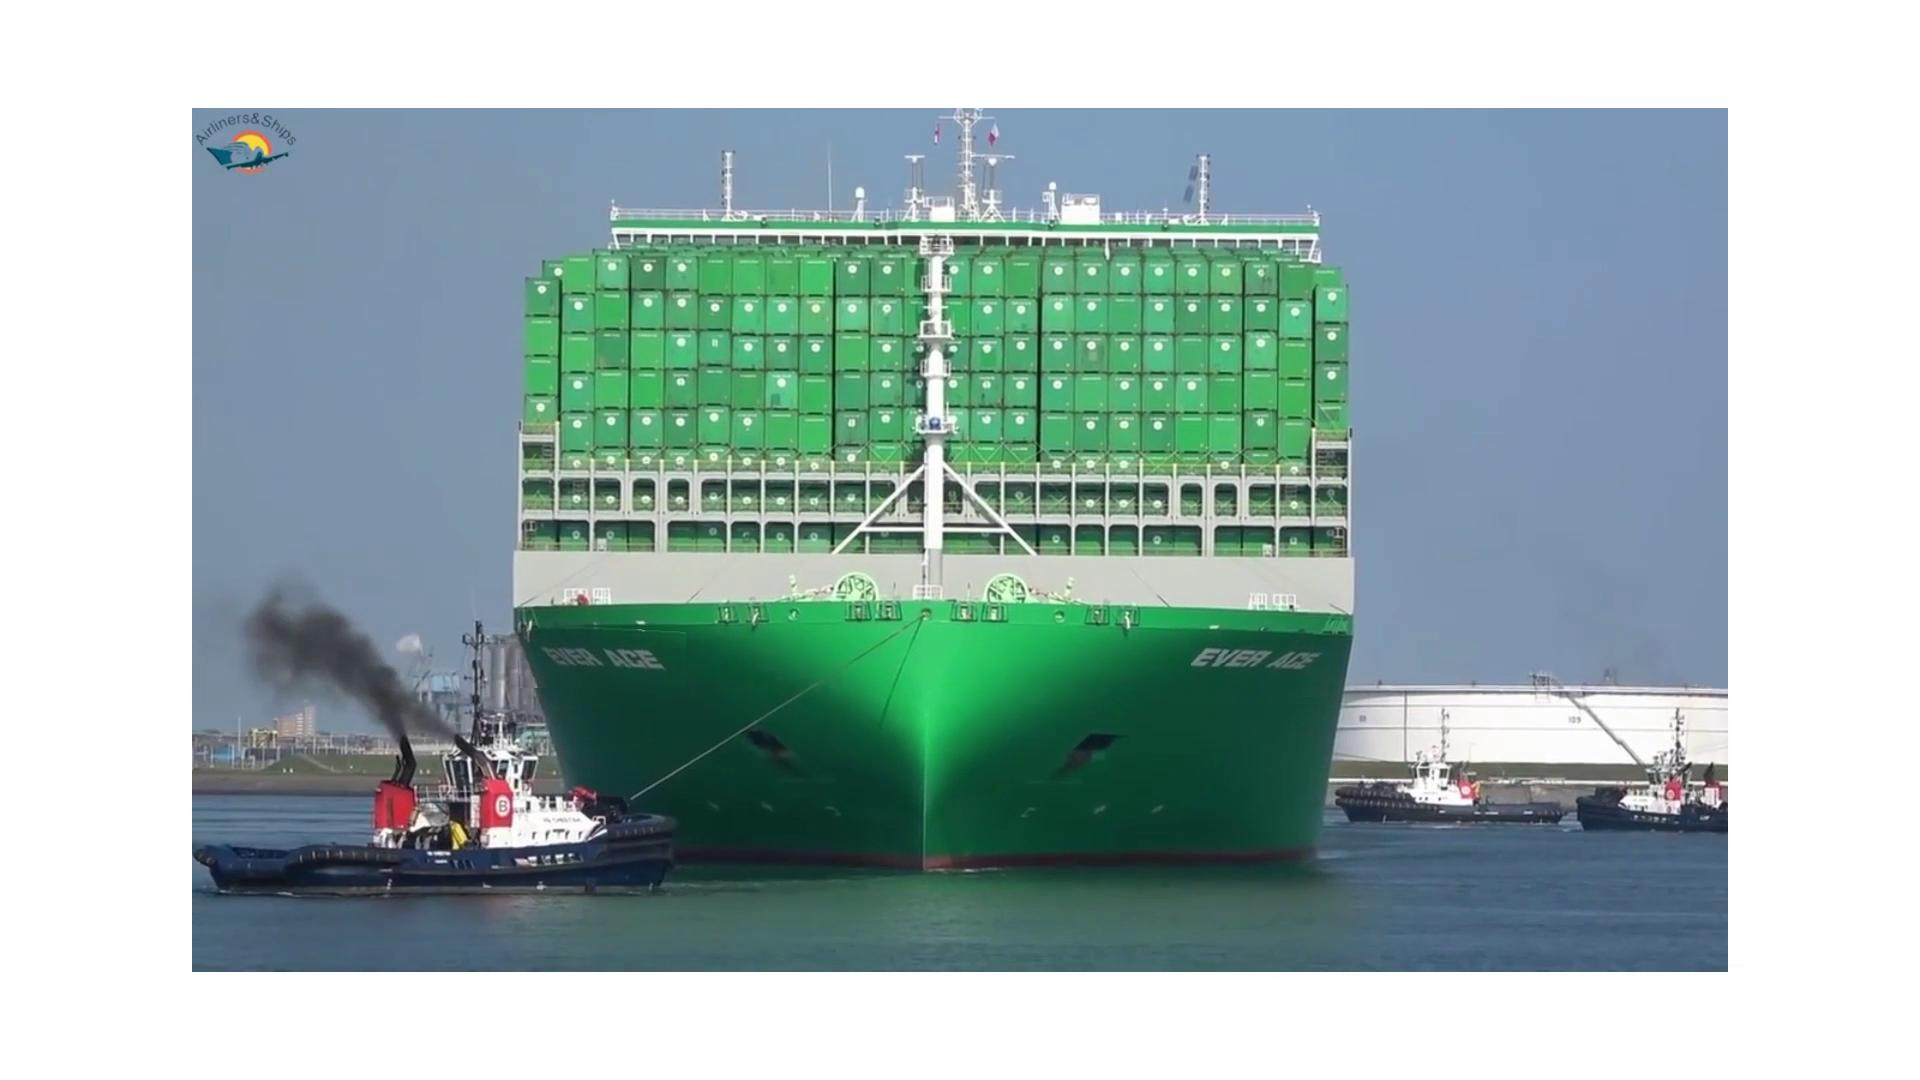OCR: (1192, 616, 1337, 698), (516, 622, 686, 688)
